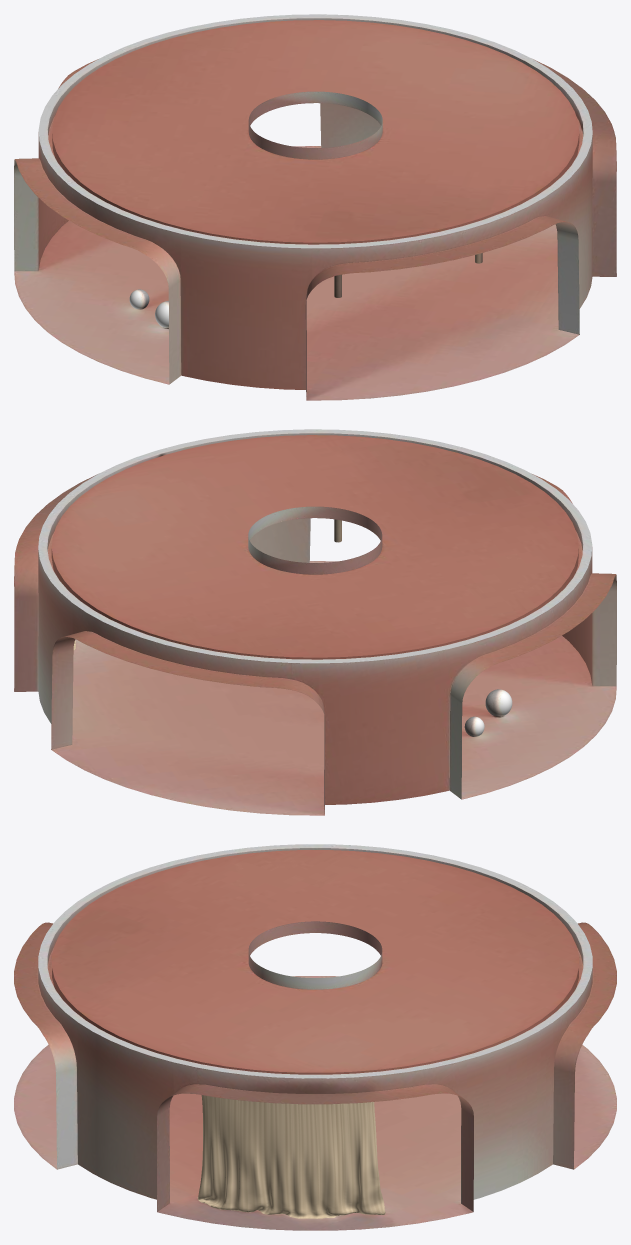
Rendered from environment3.glb.
3 renders of one model, top to bottom at view 1: azimuth 30°, elevation 25°; view 2: azimuth 150°, elevation 25°; view 3: azimuth 270°, elevation 25°, orthographic.
Visible parts, largest first — view 1: enviro2.010, Sphere.007; view 2: enviro2.010, Sphere.007; view 3: enviro2.010, Cotina.
Part boxes in pixels (bbox=[...]): enviro2.010: bbox=[14, 14, 616, 400]; Sphere.007: bbox=[129, 253, 482, 328]; enviro2.010: bbox=[14, 429, 616, 815]; Sphere.007: bbox=[334, 519, 512, 736]; enviro2.010: bbox=[14, 844, 616, 1230]; Cotina: bbox=[197, 1095, 385, 1218].
Size of the model in its own units: 22.89 by 6.46 by 22.88.
Materials: 3 (3 with a texture image).
